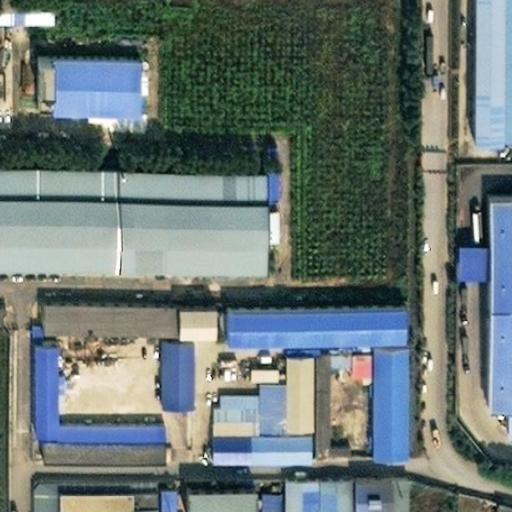building: (0, 159, 266, 259), (199, 340, 302, 419), (212, 297, 389, 329), (486, 196, 511, 416), (40, 46, 125, 103), (29, 412, 149, 449), (360, 334, 395, 443), (28, 293, 155, 320), (199, 419, 302, 449), (340, 467, 397, 512), (19, 333, 44, 426), (170, 476, 240, 507), (44, 478, 117, 506), (305, 467, 341, 512), (270, 467, 306, 512), (316, 329, 360, 363), (302, 341, 316, 445), (153, 330, 175, 378), (161, 295, 198, 323), (446, 233, 476, 266), (453, 489, 494, 512), (117, 478, 143, 512), (143, 478, 163, 512), (18, 479, 45, 501), (24, 46, 40, 80), (234, 354, 270, 369), (325, 441, 351, 458), (249, 485, 265, 512)
